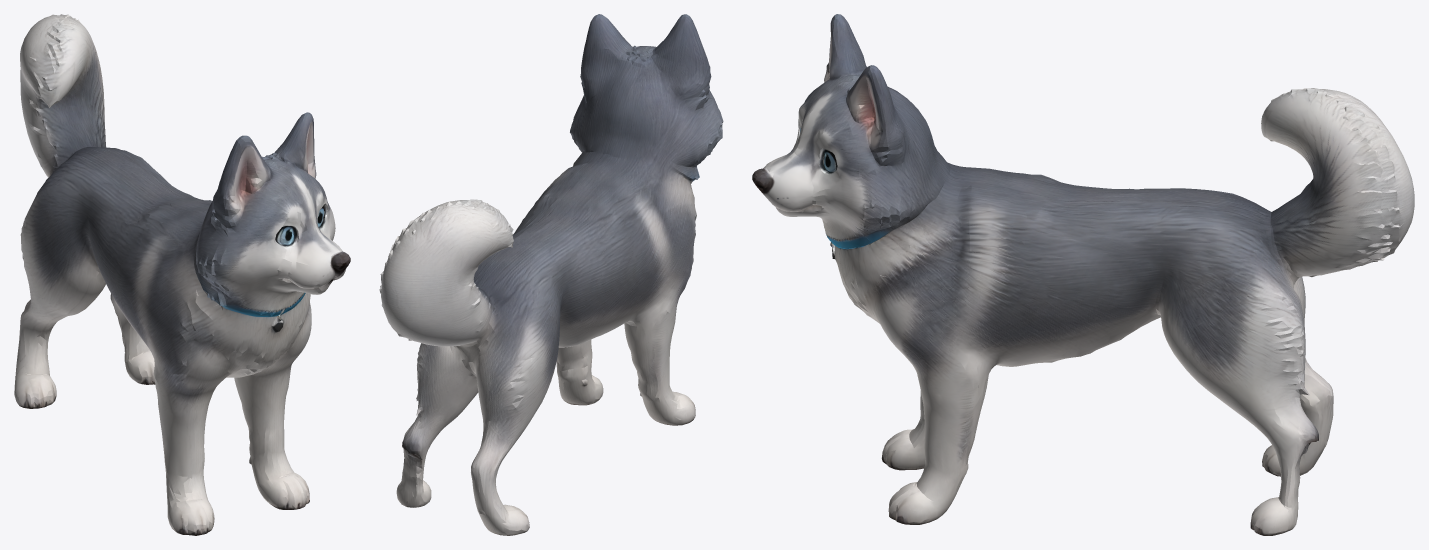
File: rodin-detail.glb
3 renders of one model, left to right at view 1: azimuth 30°, elevation 25°; view 2: azimuth 150°, elevation 25°; view 3: azimuth 270°, elevation 25°, orthographic. The views are drawn at different scales.
Parts seen in each view (by area): view 1: model; view 2: model; view 3: model.
Part boxes in pixels (x1=…): model: x1=14, y1=14, x2=350, y2=535; model: x1=379, y1=14, x2=723, y2=535; model: x1=752, y1=14, x2=1414, y2=535.
Size of the model in its own units: 0.5906 by 1.46 by 1.91.
1 material, 1 textured.
